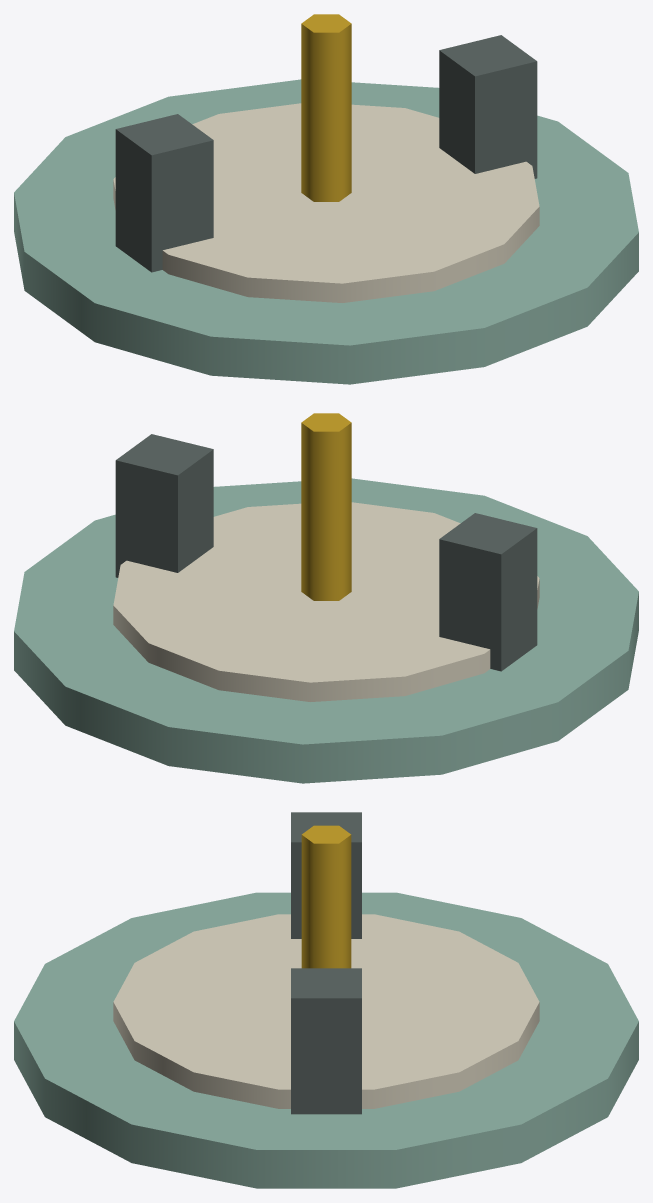
The model's file is xiu_lian_qu.glb.
The picture shows the model from 3 angles, top to bottom: view 1: azimuth 30°, elevation 25°; view 2: azimuth 150°, elevation 25°; view 3: azimuth 270°, elevation 25°; orthographic projection.
Visible parts, largest first — view 1: _MeshInstance3D_143, _MeshInstance3D_144, _MeshInstance3D_145, _MeshInstance3D_146, _MeshInstance3D_147; view 2: _MeshInstance3D_143, _MeshInstance3D_144, _MeshInstance3D_145, _MeshInstance3D_146, _MeshInstance3D_147; view 3: _MeshInstance3D_143, _MeshInstance3D_144, _MeshInstance3D_146, _MeshInstance3D_147, _MeshInstance3D_145.
Part boxes in pixels (<box>): _MeshInstance3D_143: <box>14,79,638,384</box>; _MeshInstance3D_144: <box>113,103,539,302</box>; _MeshInstance3D_145: <box>115,114,213,272</box>; _MeshInstance3D_146: <box>439,35,537,178</box>; _MeshInstance3D_147: <box>301,14,351,201</box>; _MeshInstance3D_143: <box>14,478,638,783</box>; _MeshInstance3D_144: <box>113,502,539,701</box>; _MeshInstance3D_145: <box>439,513,537,671</box>; _MeshInstance3D_146: <box>115,434,213,577</box>; _MeshInstance3D_147: <box>301,413,351,600</box>; _MeshInstance3D_143: <box>14,892,638,1188</box>; _MeshInstance3D_144: <box>113,914,539,1108</box>; _MeshInstance3D_146: <box>291,968,361,1114</box>; _MeshInstance3D_147: <box>301,825,351,968</box>; _MeshInstance3D_145: <box>291,812,361,938</box>.
Size of the model in its own units: 0.8579 by 0.35 by 0.88.
